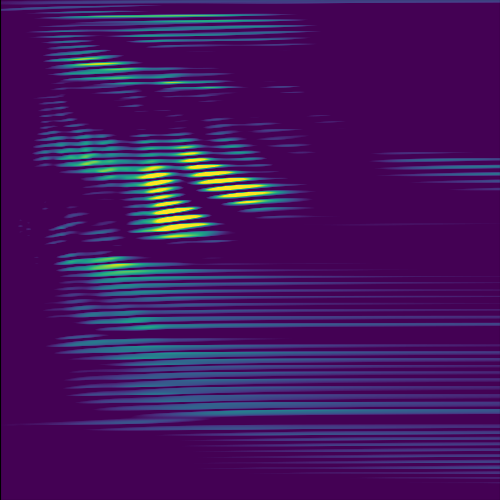semblance: (129, 160, 219, 246), (63, 46, 139, 77)
